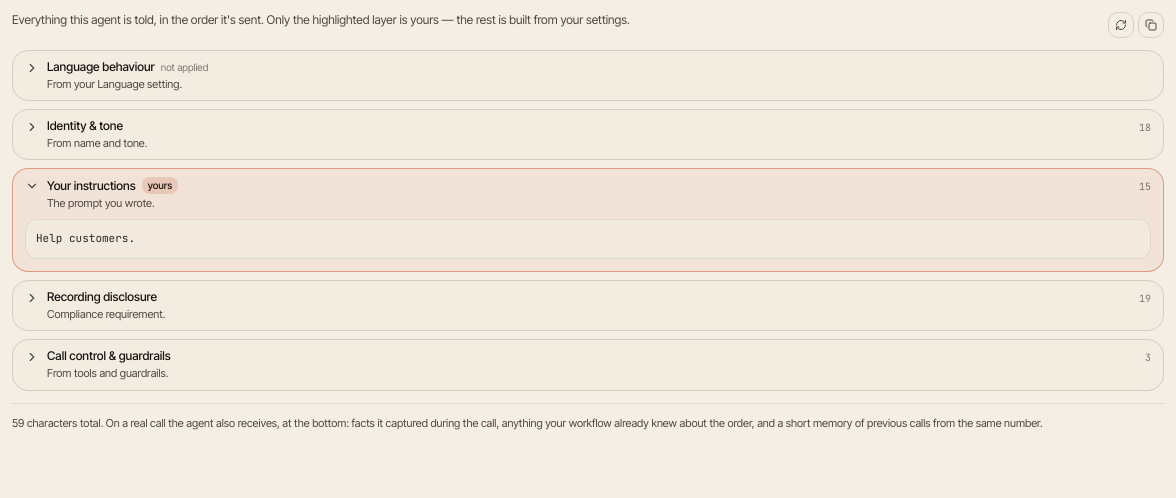
CompiledPromptPanel › expands a collapsed layer on click
The width and height of the screenshot is (1176, 498).
Click the text "Identity & tone" at (85, 126), box [47,118,123,134]
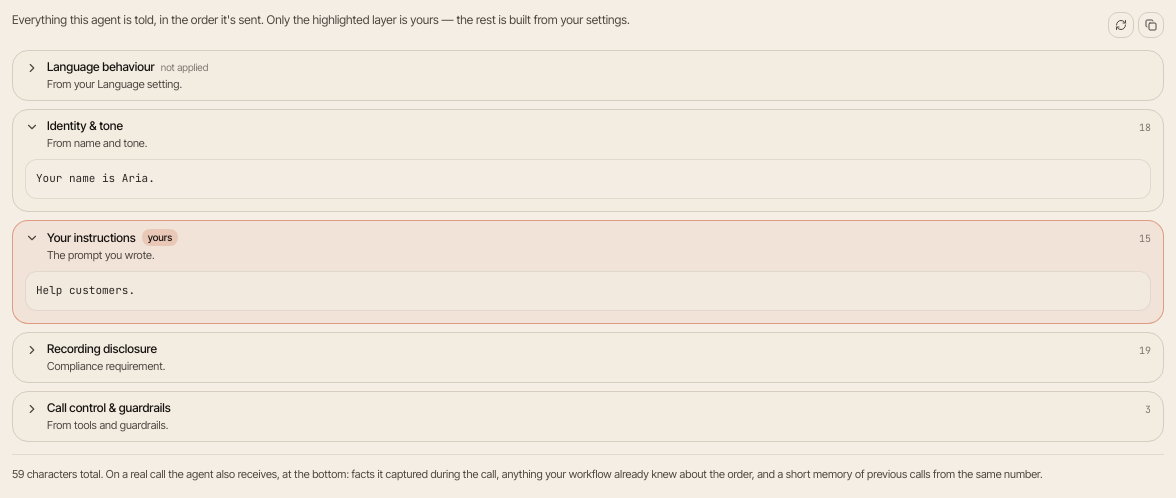
Expected: the text "Your name is Aria." is shown, [25,159,1151,199]
